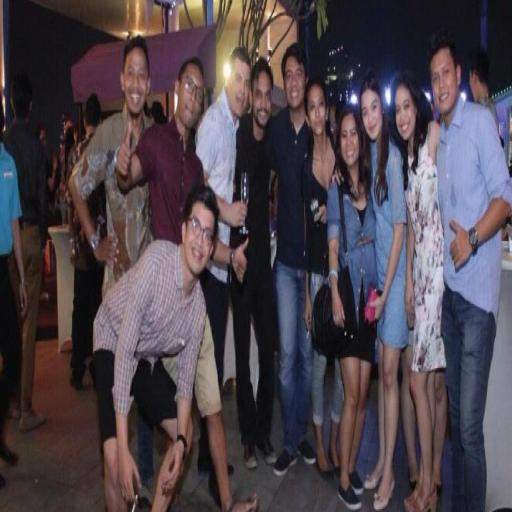person: (94, 186, 218, 511), (429, 31, 511, 511), (391, 72, 445, 510), (69, 37, 151, 295), (360, 72, 408, 509), (327, 106, 377, 509), (230, 58, 276, 469), (273, 43, 316, 476), (117, 58, 203, 244), (4, 75, 46, 430), (196, 47, 250, 246), (0, 103, 26, 463), (301, 77, 335, 338), (69, 204, 103, 390), (469, 48, 498, 131)
